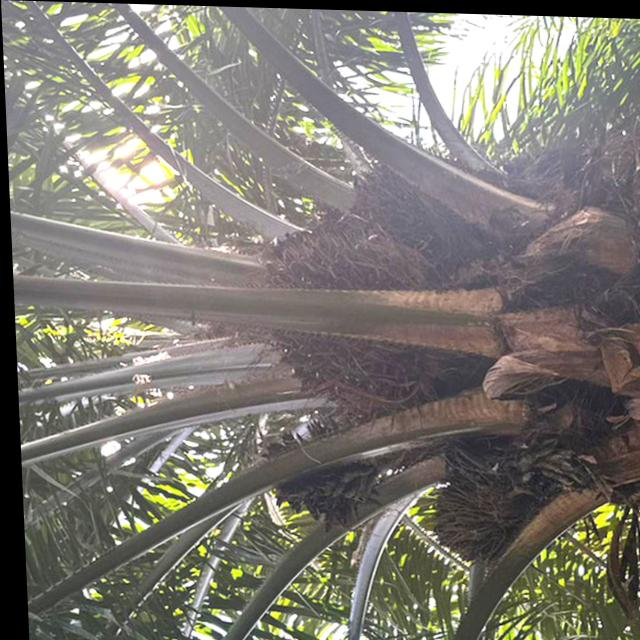ripe: (250, 229, 430, 418)
